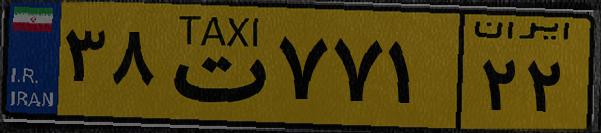1: (385, 28, 445, 110)
2: (475, 38, 525, 113), (525, 38, 570, 115)
3: (57, 26, 110, 100)
7: (270, 28, 330, 110), (330, 28, 385, 110)
8: (110, 28, 158, 98)
ت: (158, 12, 270, 120)
